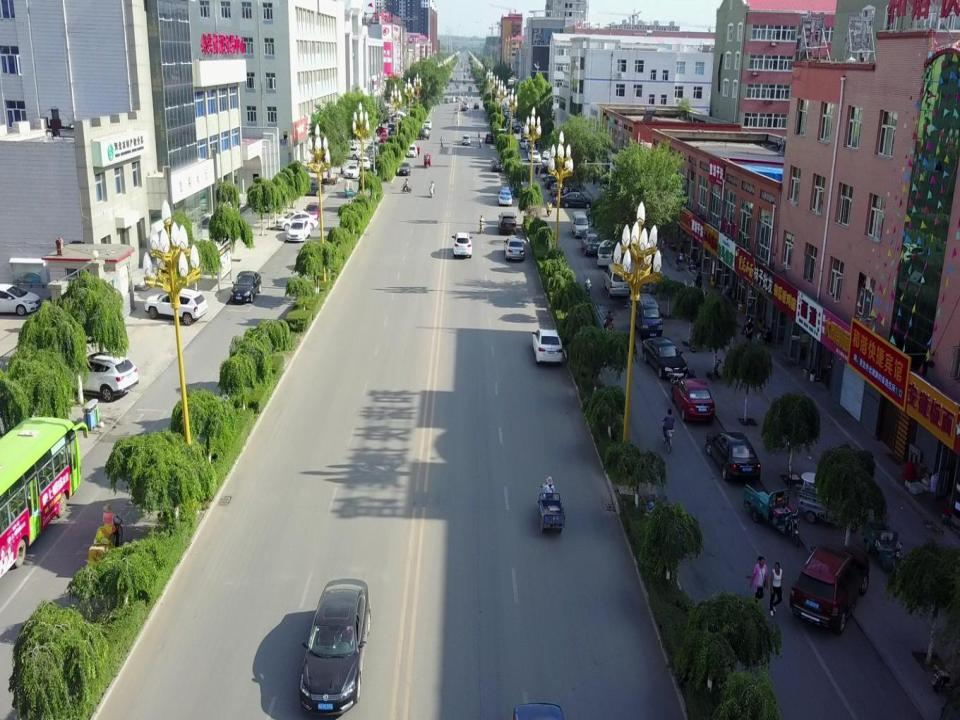bus: (0, 415, 89, 582)
car: (298, 579, 370, 718), (789, 542, 870, 636), (63, 353, 138, 401), (704, 431, 761, 484), (144, 289, 207, 324), (671, 377, 715, 421), (640, 338, 680, 377), (0, 284, 41, 316), (532, 327, 564, 366), (229, 270, 262, 304), (276, 211, 318, 231), (287, 219, 311, 243), (502, 235, 524, 261), (558, 193, 593, 209), (452, 231, 472, 259), (581, 232, 603, 256), (297, 182, 325, 197), (498, 212, 516, 233), (305, 202, 322, 222), (497, 186, 512, 206), (338, 147, 362, 158), (540, 165, 562, 175), (526, 149, 541, 163), (550, 182, 564, 197), (345, 164, 360, 178), (415, 127, 430, 140), (490, 159, 503, 172), (520, 137, 534, 149), (399, 162, 411, 176), (369, 140, 381, 154), (542, 148, 557, 158), (358, 158, 370, 170), (365, 146, 378, 157), (460, 135, 471, 146), (408, 144, 416, 158), (485, 133, 495, 144), (423, 119, 431, 129)
truck: (545, 175, 556, 187)
van: (632, 293, 662, 337), (604, 266, 630, 298), (598, 241, 618, 266), (571, 212, 589, 237)
